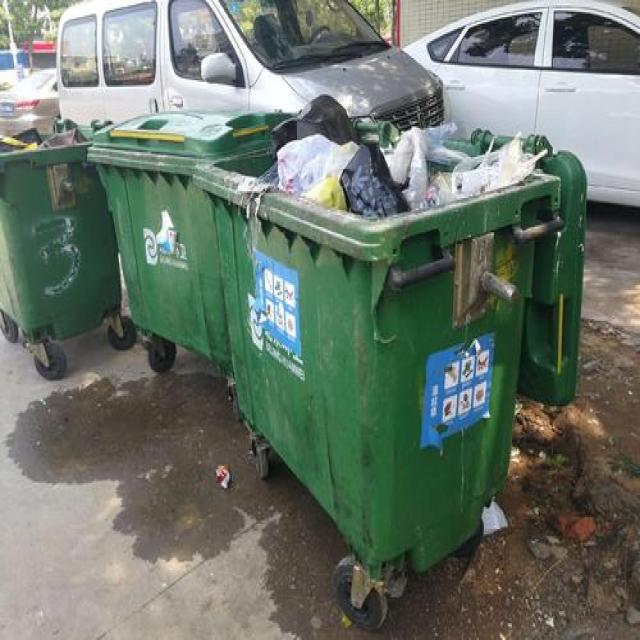garbage_bin: (88, 109, 293, 360)
overflow: (192, 92, 585, 572), (0, 118, 122, 340)
